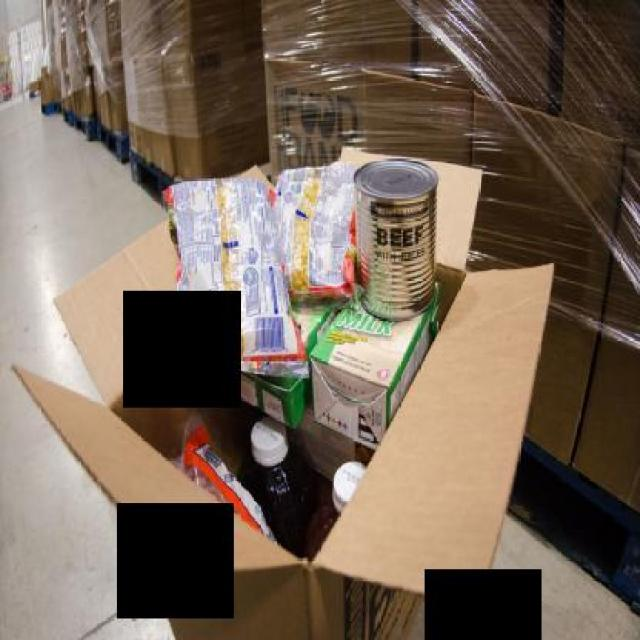plastic bag: (166, 169, 306, 400)
